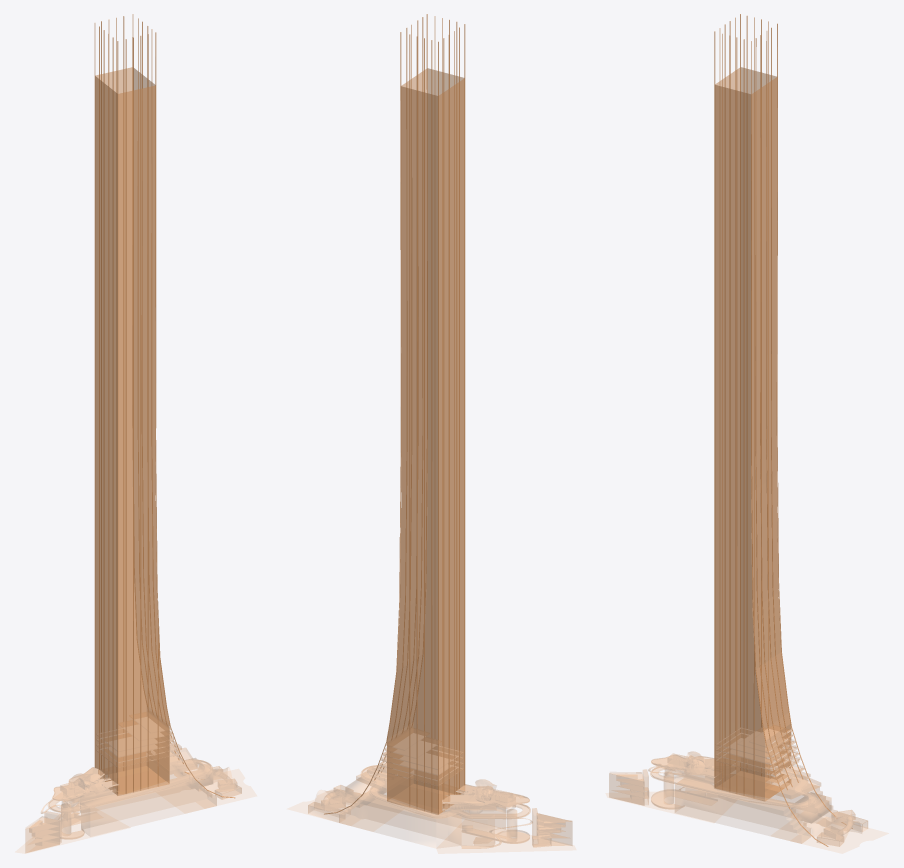
Rendered from SennaTowerRetopoLaranja.glb.
3 views of the same model, side by side, from view 1: azimuth 30°, elevation 25°; view 2: azimuth 150°, elevation 25°; view 3: azimuth 330°, elevation 25° (orthographic). The views are drawn at different scales.
Visible parts, largest first — view 1: Predio_Principal, GradesCurvadas, Cascada_Blocos, Chão_Topo, MD_Torre_Vigas, Final_Triangulo, Kart, Frente, Chao; view 2: Predio_Principal, GradesCurvadas, Cascada_Blocos, Chão_Topo, MD_Torre_Vigas, Final_Triangulo, Kart, Frente, __6861174_.001, Chao, Rampa; view 3: Predio_Principal, GradesCurvadas, Cascada_Blocos, MD_Torre_Vigas, Final_Triangulo, Kart, Chão_Topo, Frente, MD_Torre_Floreiras, Sacadas, Rampa, Chao.
Part boxes in pixels (x1,y1,x2,y2): Predio_Principal: (95,67,169,795); GradesCurvadas: (94,14,235,798); Cascada_Blocos: (80,758,216,836); Chão_Topo: (52,767,119,806); MD_Torre_Vigas: (96,717,178,762); Final_Triangulo: (25,811,61,852); Kart: (49,759,210,811); Frente: (188,764,241,799); Chao: (16,769,256,853); Predio_Principal: (387,68,464,814); GradesCurvadas: (324,14,465,814); Cascada_Blocos: (339,775,505,847); Chão_Topo: (442,784,529,813); MD_Torre_Vigas: (378,733,463,780); Final_Triangulo: (532,808,572,847); Kart: (362,765,529,817); Frente: (308,785,359,822); __6861174_.001: (462,818,494,846); Chao: (289,789,575,853); Rampa: (465,828,529,843); Predio_Principal: (715,67,791,800); GradesCurvadas: (714,14,852,846); Cascada_Blocos: (675,778,837,843); MD_Torre_Vigas: (716,728,799,776); Final_Triangulo: (609,769,648,805); Kart: (651,767,815,807); Chão_Topo: (651,755,735,784); Frente: (817,810,867,846); MD_Torre_Floreiras: (766,730,810,785); Sacadas: (765,774,820,798); Rampa: (651,789,717,809); Chao: (606,792,887,852).
Bounding box in the file's own units: 411 × 1212 × 117.
